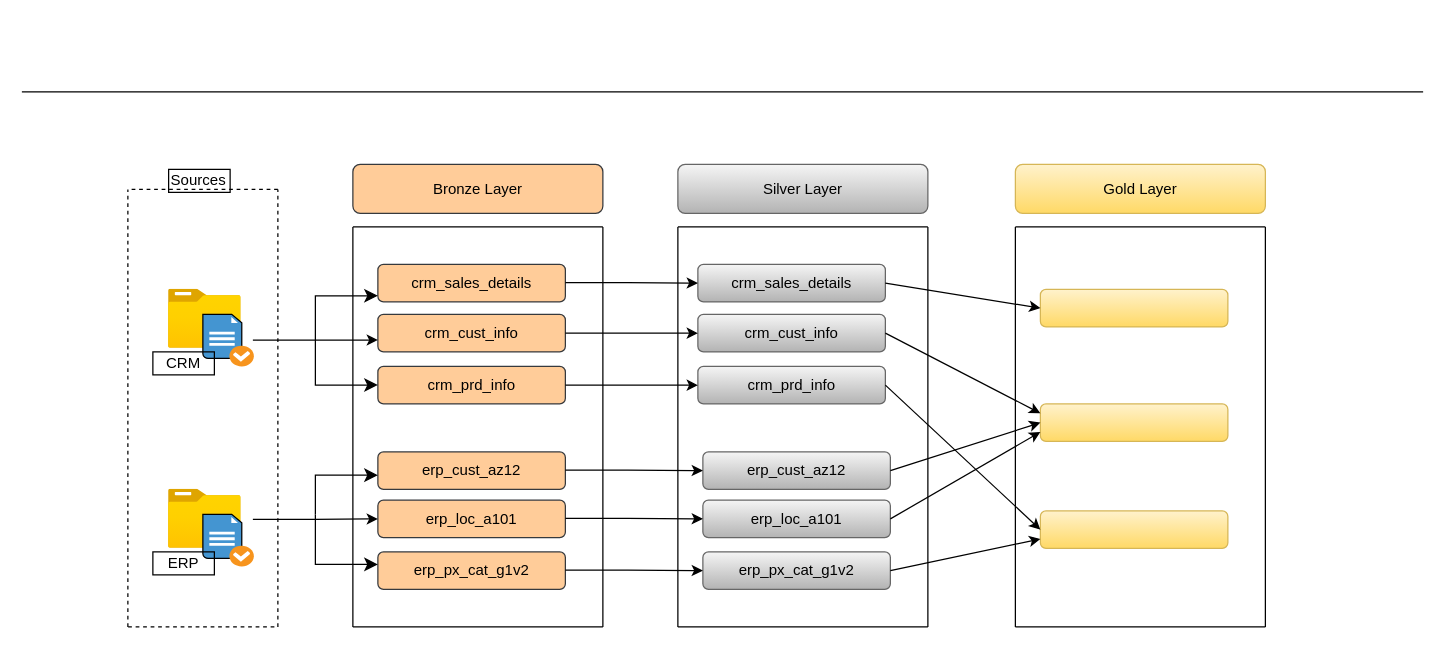
This 1446x650 diagram has some shape labels left out. The centre of each missing label's shape, as x and y in pixels:
"Customers" goes at point 1133,422.
"Products" goes at point 1133,529.
"Sales" goes at point 1133,307.
